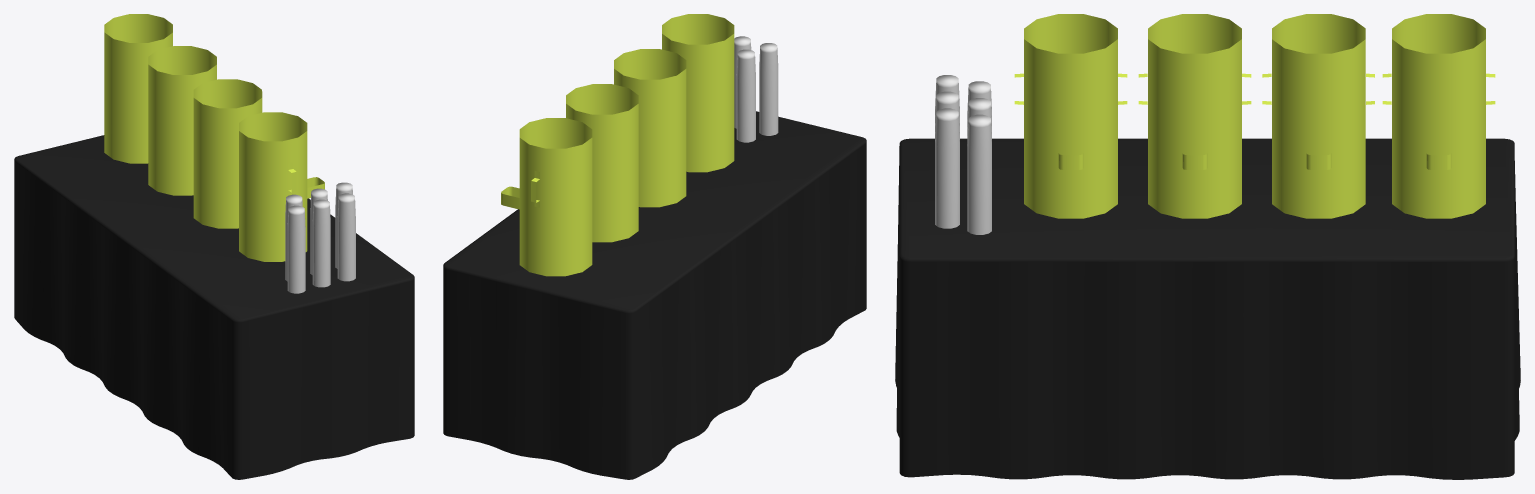
The model's file is pantry-3.glb.
3 views of the same model, side by side, from view 1: azimuth 30°, elevation 25°; view 2: azimuth 150°, elevation 25°; view 3: azimuth 270°, elevation 25° (orthographic). The views are drawn at different scales.
Parts seen in each view (by area): view 1: Cube.919_Cube.004; view 2: Cube.919_Cube.004; view 3: Cube.919_Cube.004.
Part boxes in pixels (x1,y1,x2,y2): Cube.919_Cube.004: [14, 14, 414, 479]; Cube.919_Cube.004: [443, 14, 866, 479]; Cube.919_Cube.004: [895, 14, 1520, 479].
Size of the model in its own units: 2.05 by 2.95 by 4.3.
